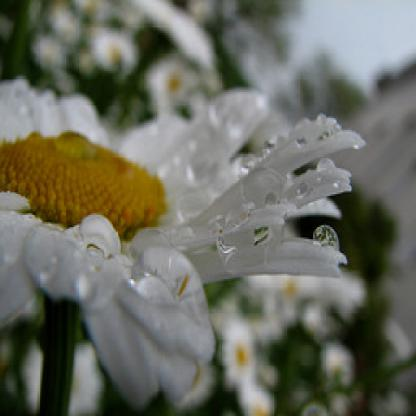ASTER: (9, 13, 369, 402)
